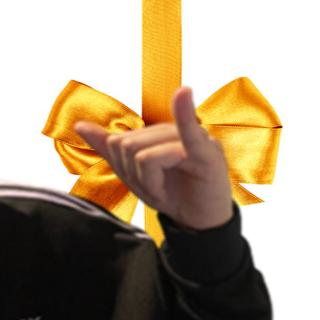HAVE: (69, 83, 236, 229)
